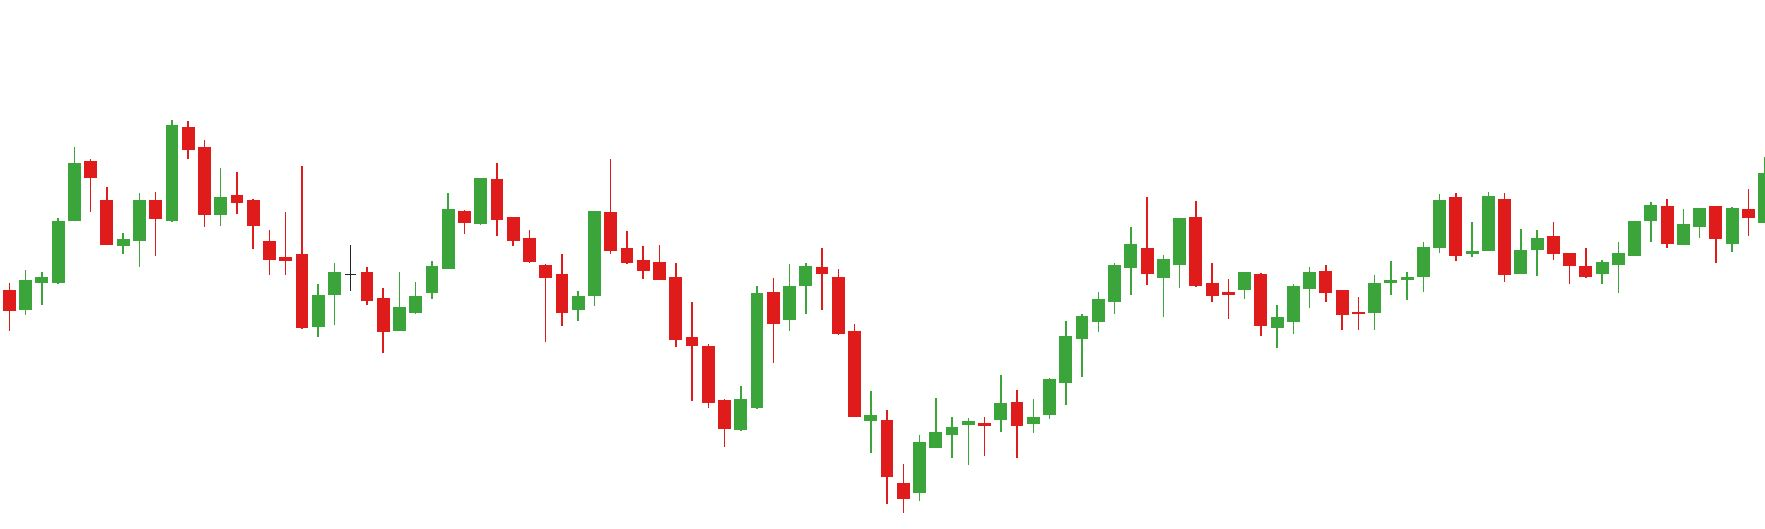buy: (536, 246, 767, 443), (292, 260, 407, 351)
sell: (64, 122, 196, 217)
